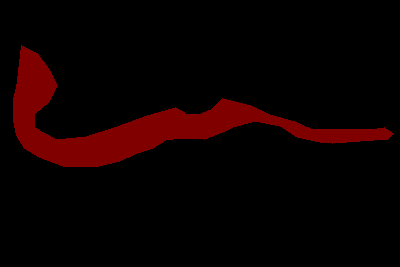fire: (13, 45, 393, 166)
